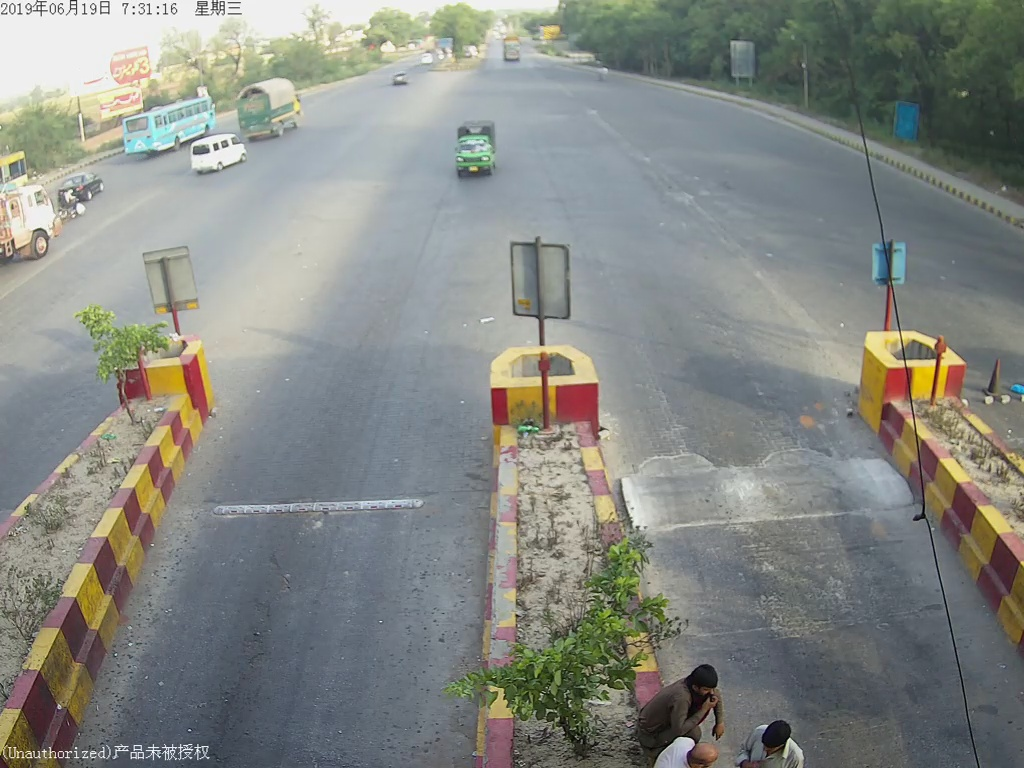Cat-1: (439, 118, 505, 185)
